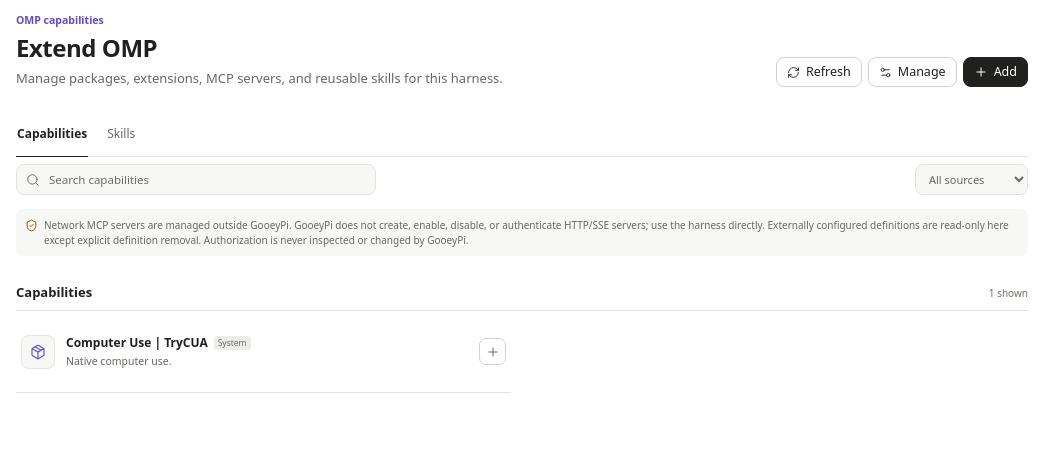
Test case: PluginsPage bundled capability controls › opens the TryCUA installer instead of enabling when the driver is missing
Step 1. Click the button named "Enable Computer Use | TryCUA" → (492, 352), box [479,338,506,365]
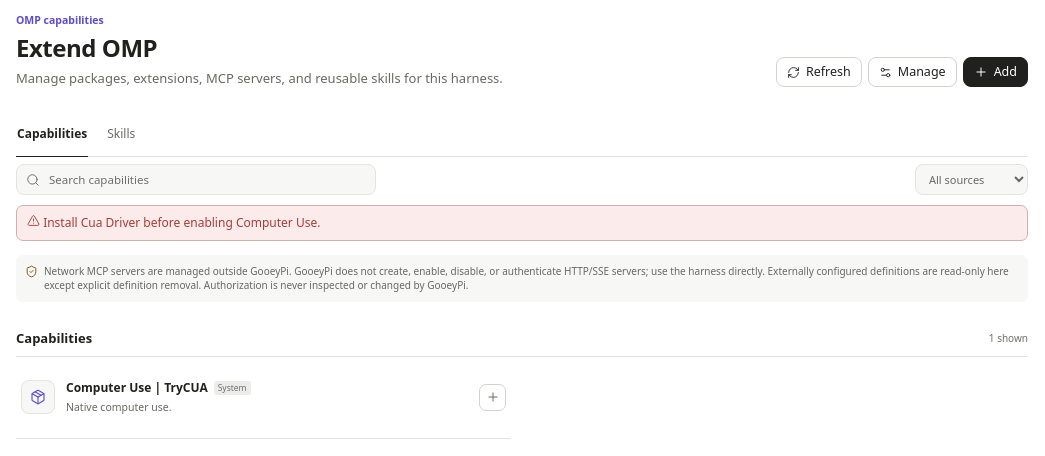
Now the text "Install Cua Driver before enabling Computer Use." is shown, box [16,206,1028,241]
